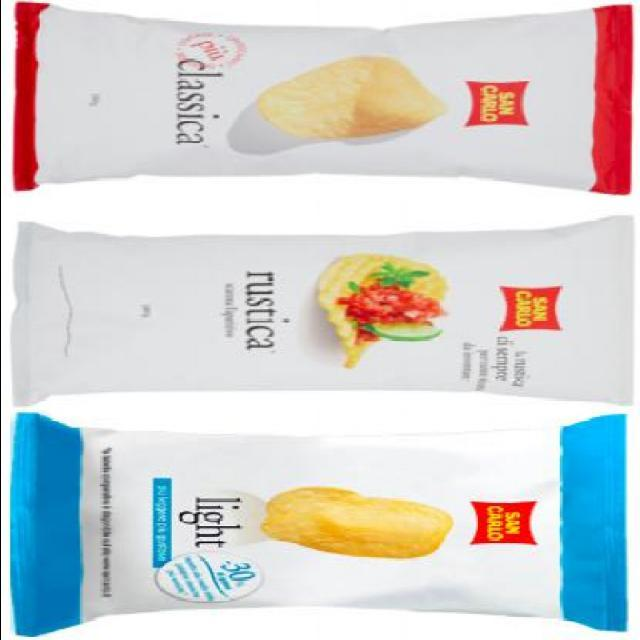Chips: (2, 412, 620, 638), (16, 212, 636, 412), (20, 7, 629, 193)
